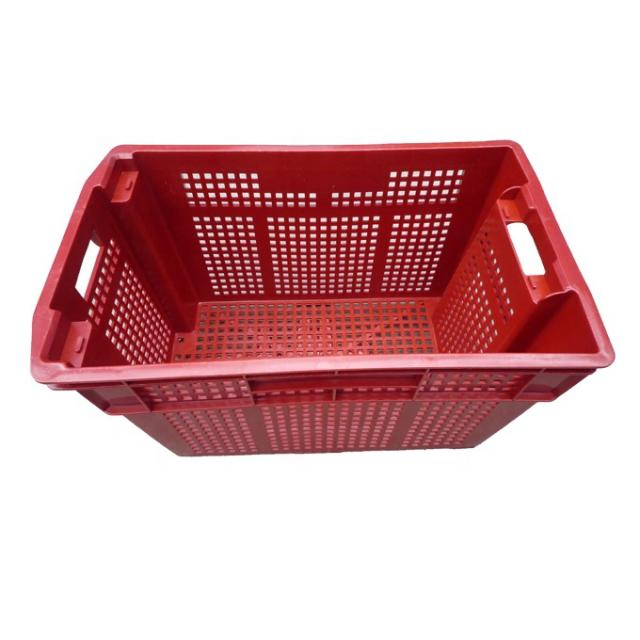basket: (25, 130, 617, 461)
